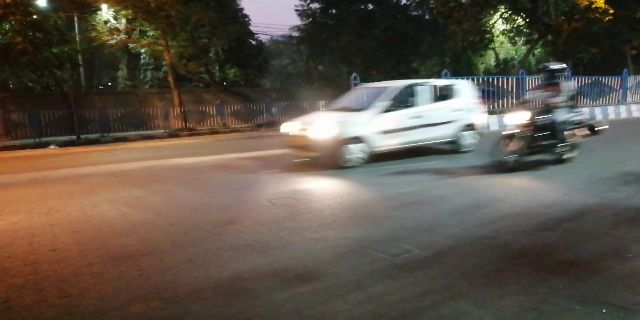Car: (277, 74, 490, 164)
Motorbike: (502, 64, 598, 173)
